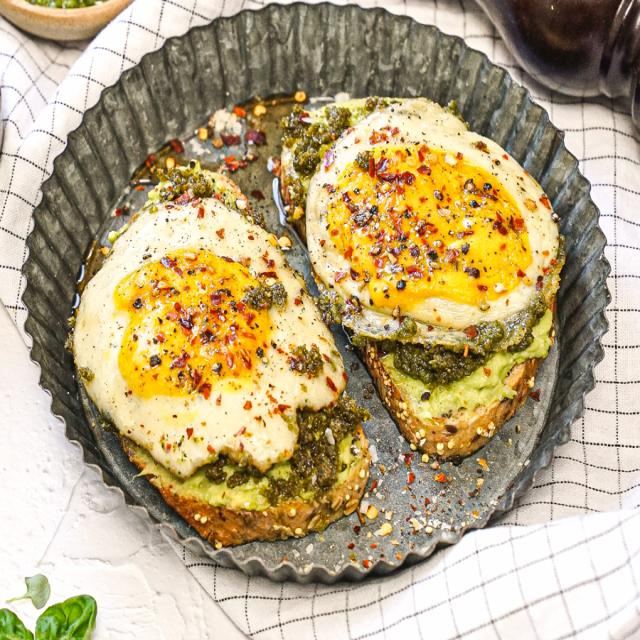Egg: (72, 164, 346, 477), (305, 98, 564, 355)
